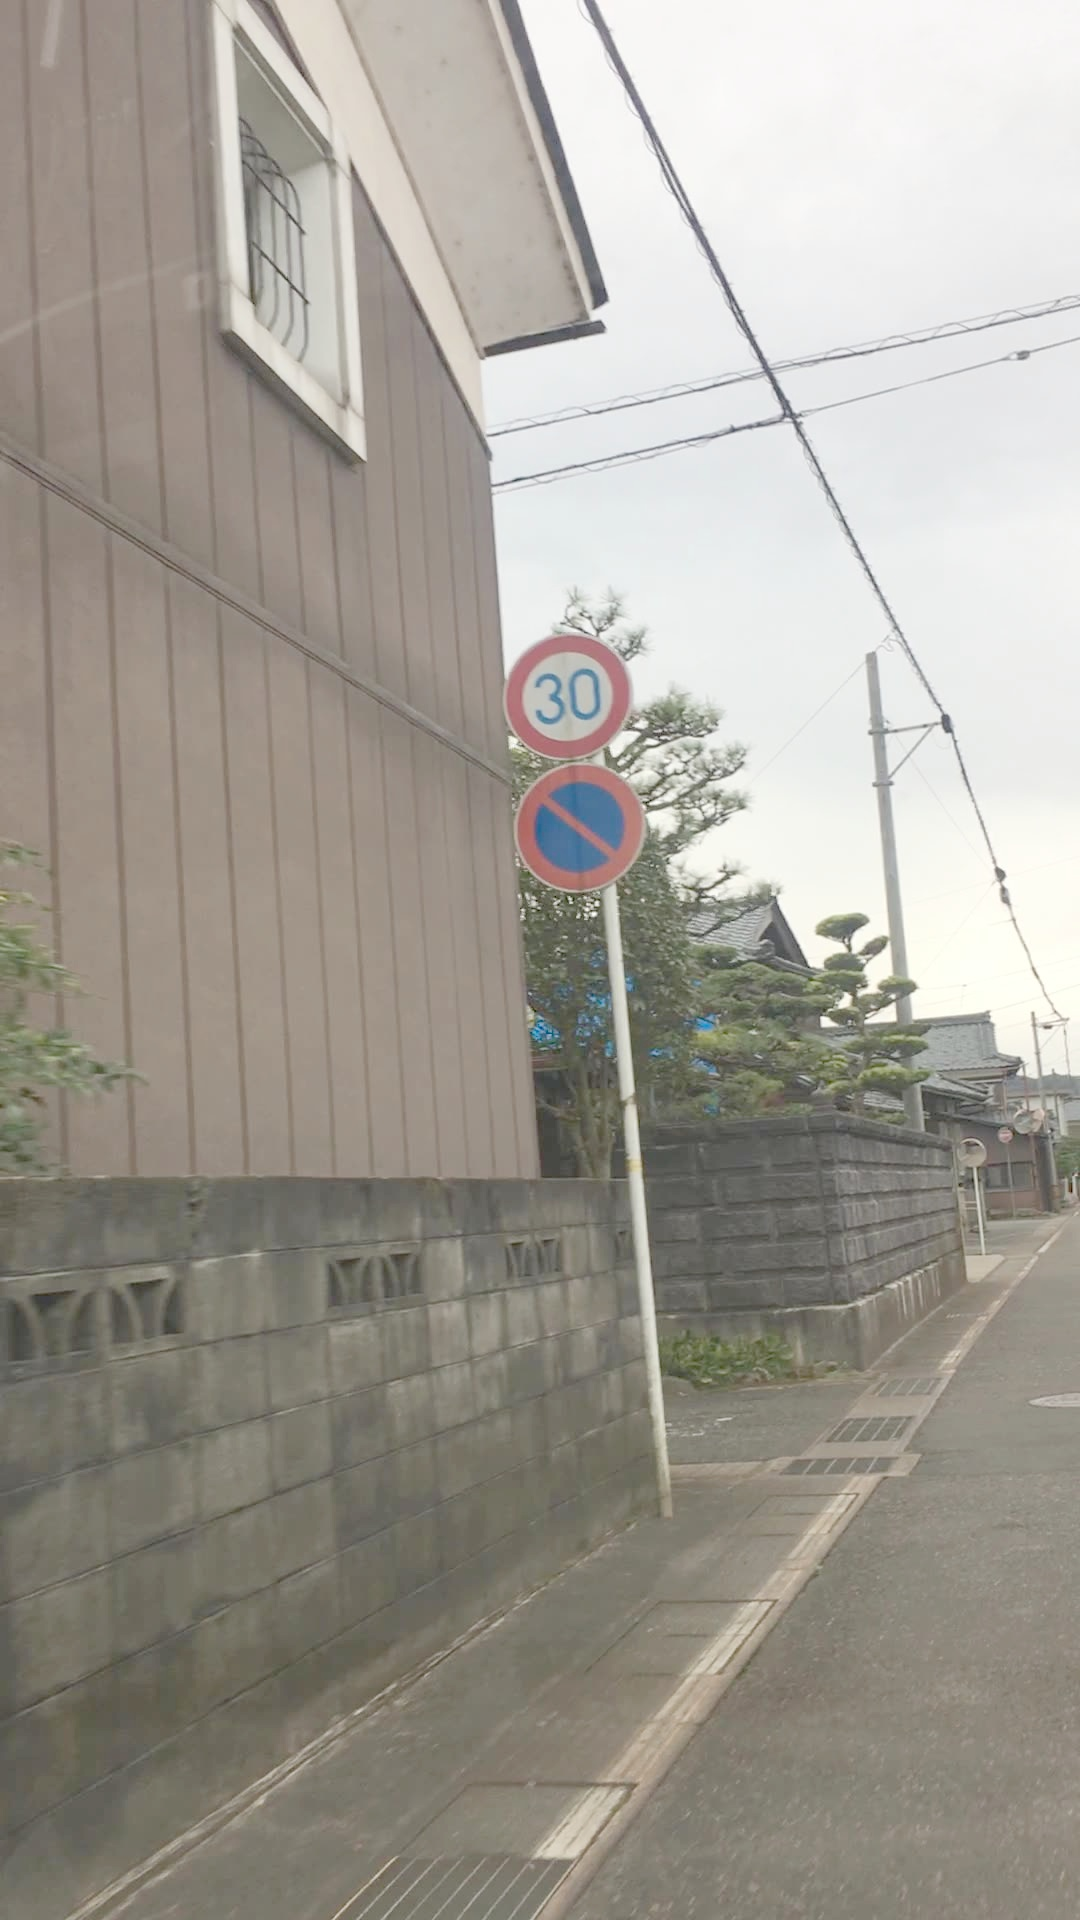Prohibition_sign: (510, 758, 650, 899)
Speed_sign: (498, 634, 638, 752)
